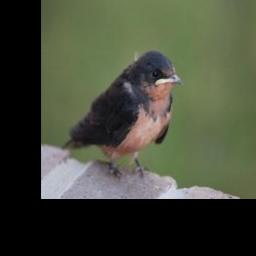Swallow: (62, 48, 183, 181)
